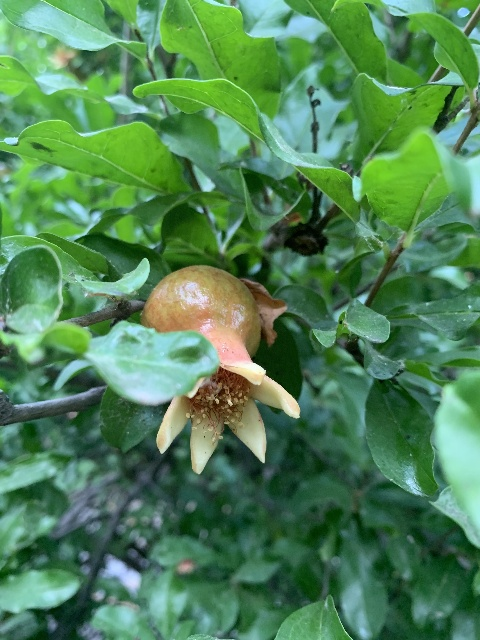early-fruit: (140, 266, 300, 475)
